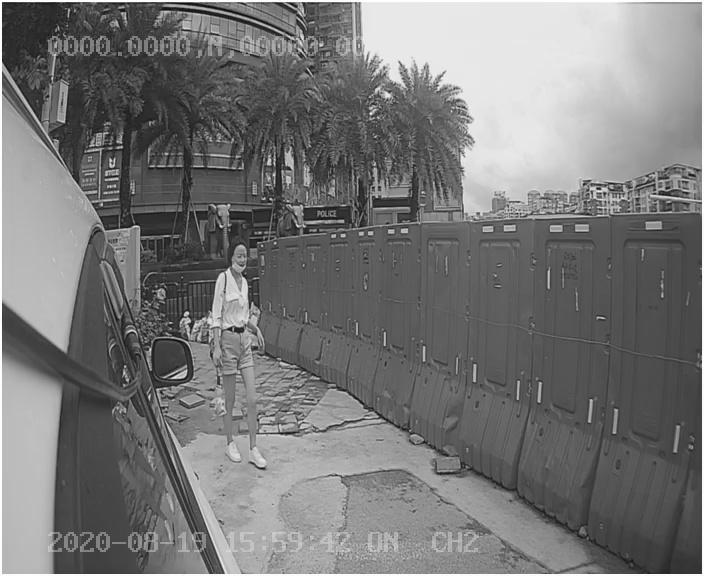person: (198, 239, 288, 474)
